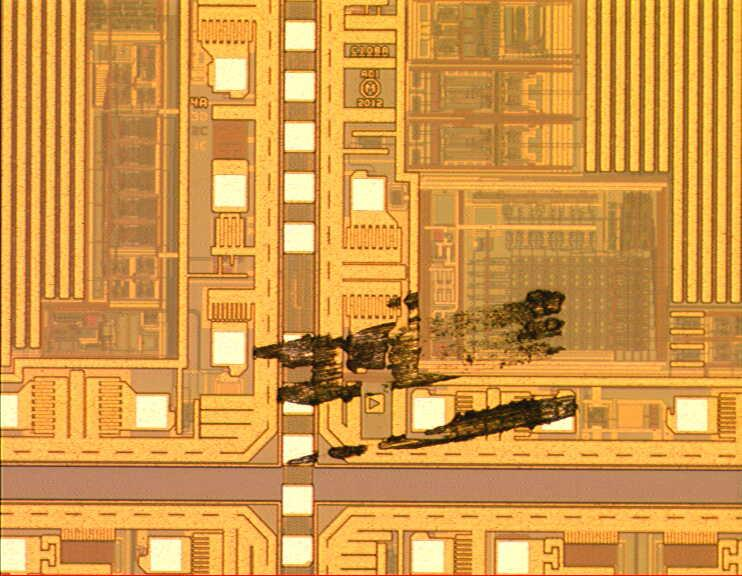SCRATCH: (244, 278, 595, 483)
